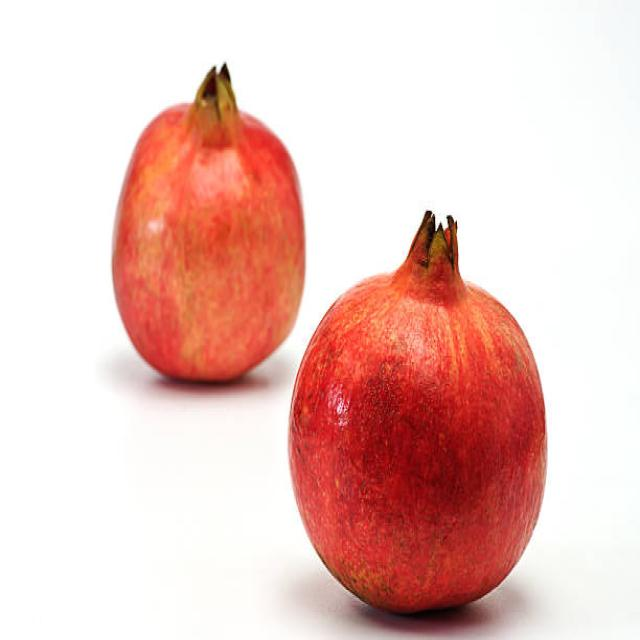Ripe: (281, 200, 553, 619), (108, 61, 307, 382)
